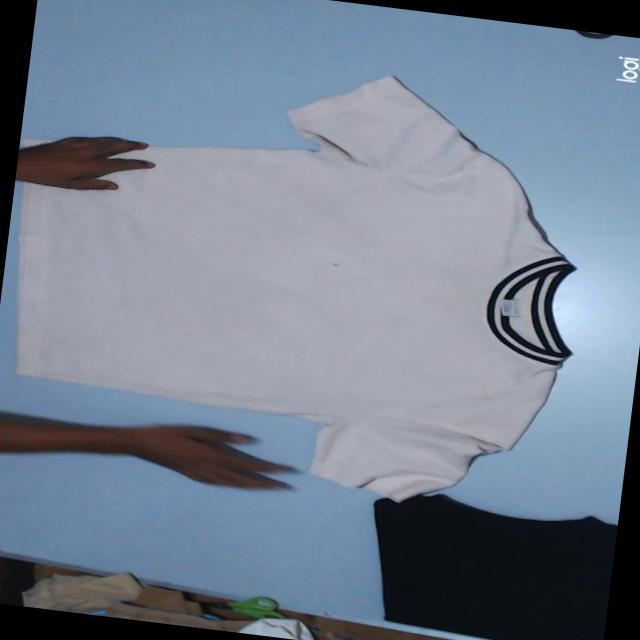new-garment: (18, 76, 573, 498)
